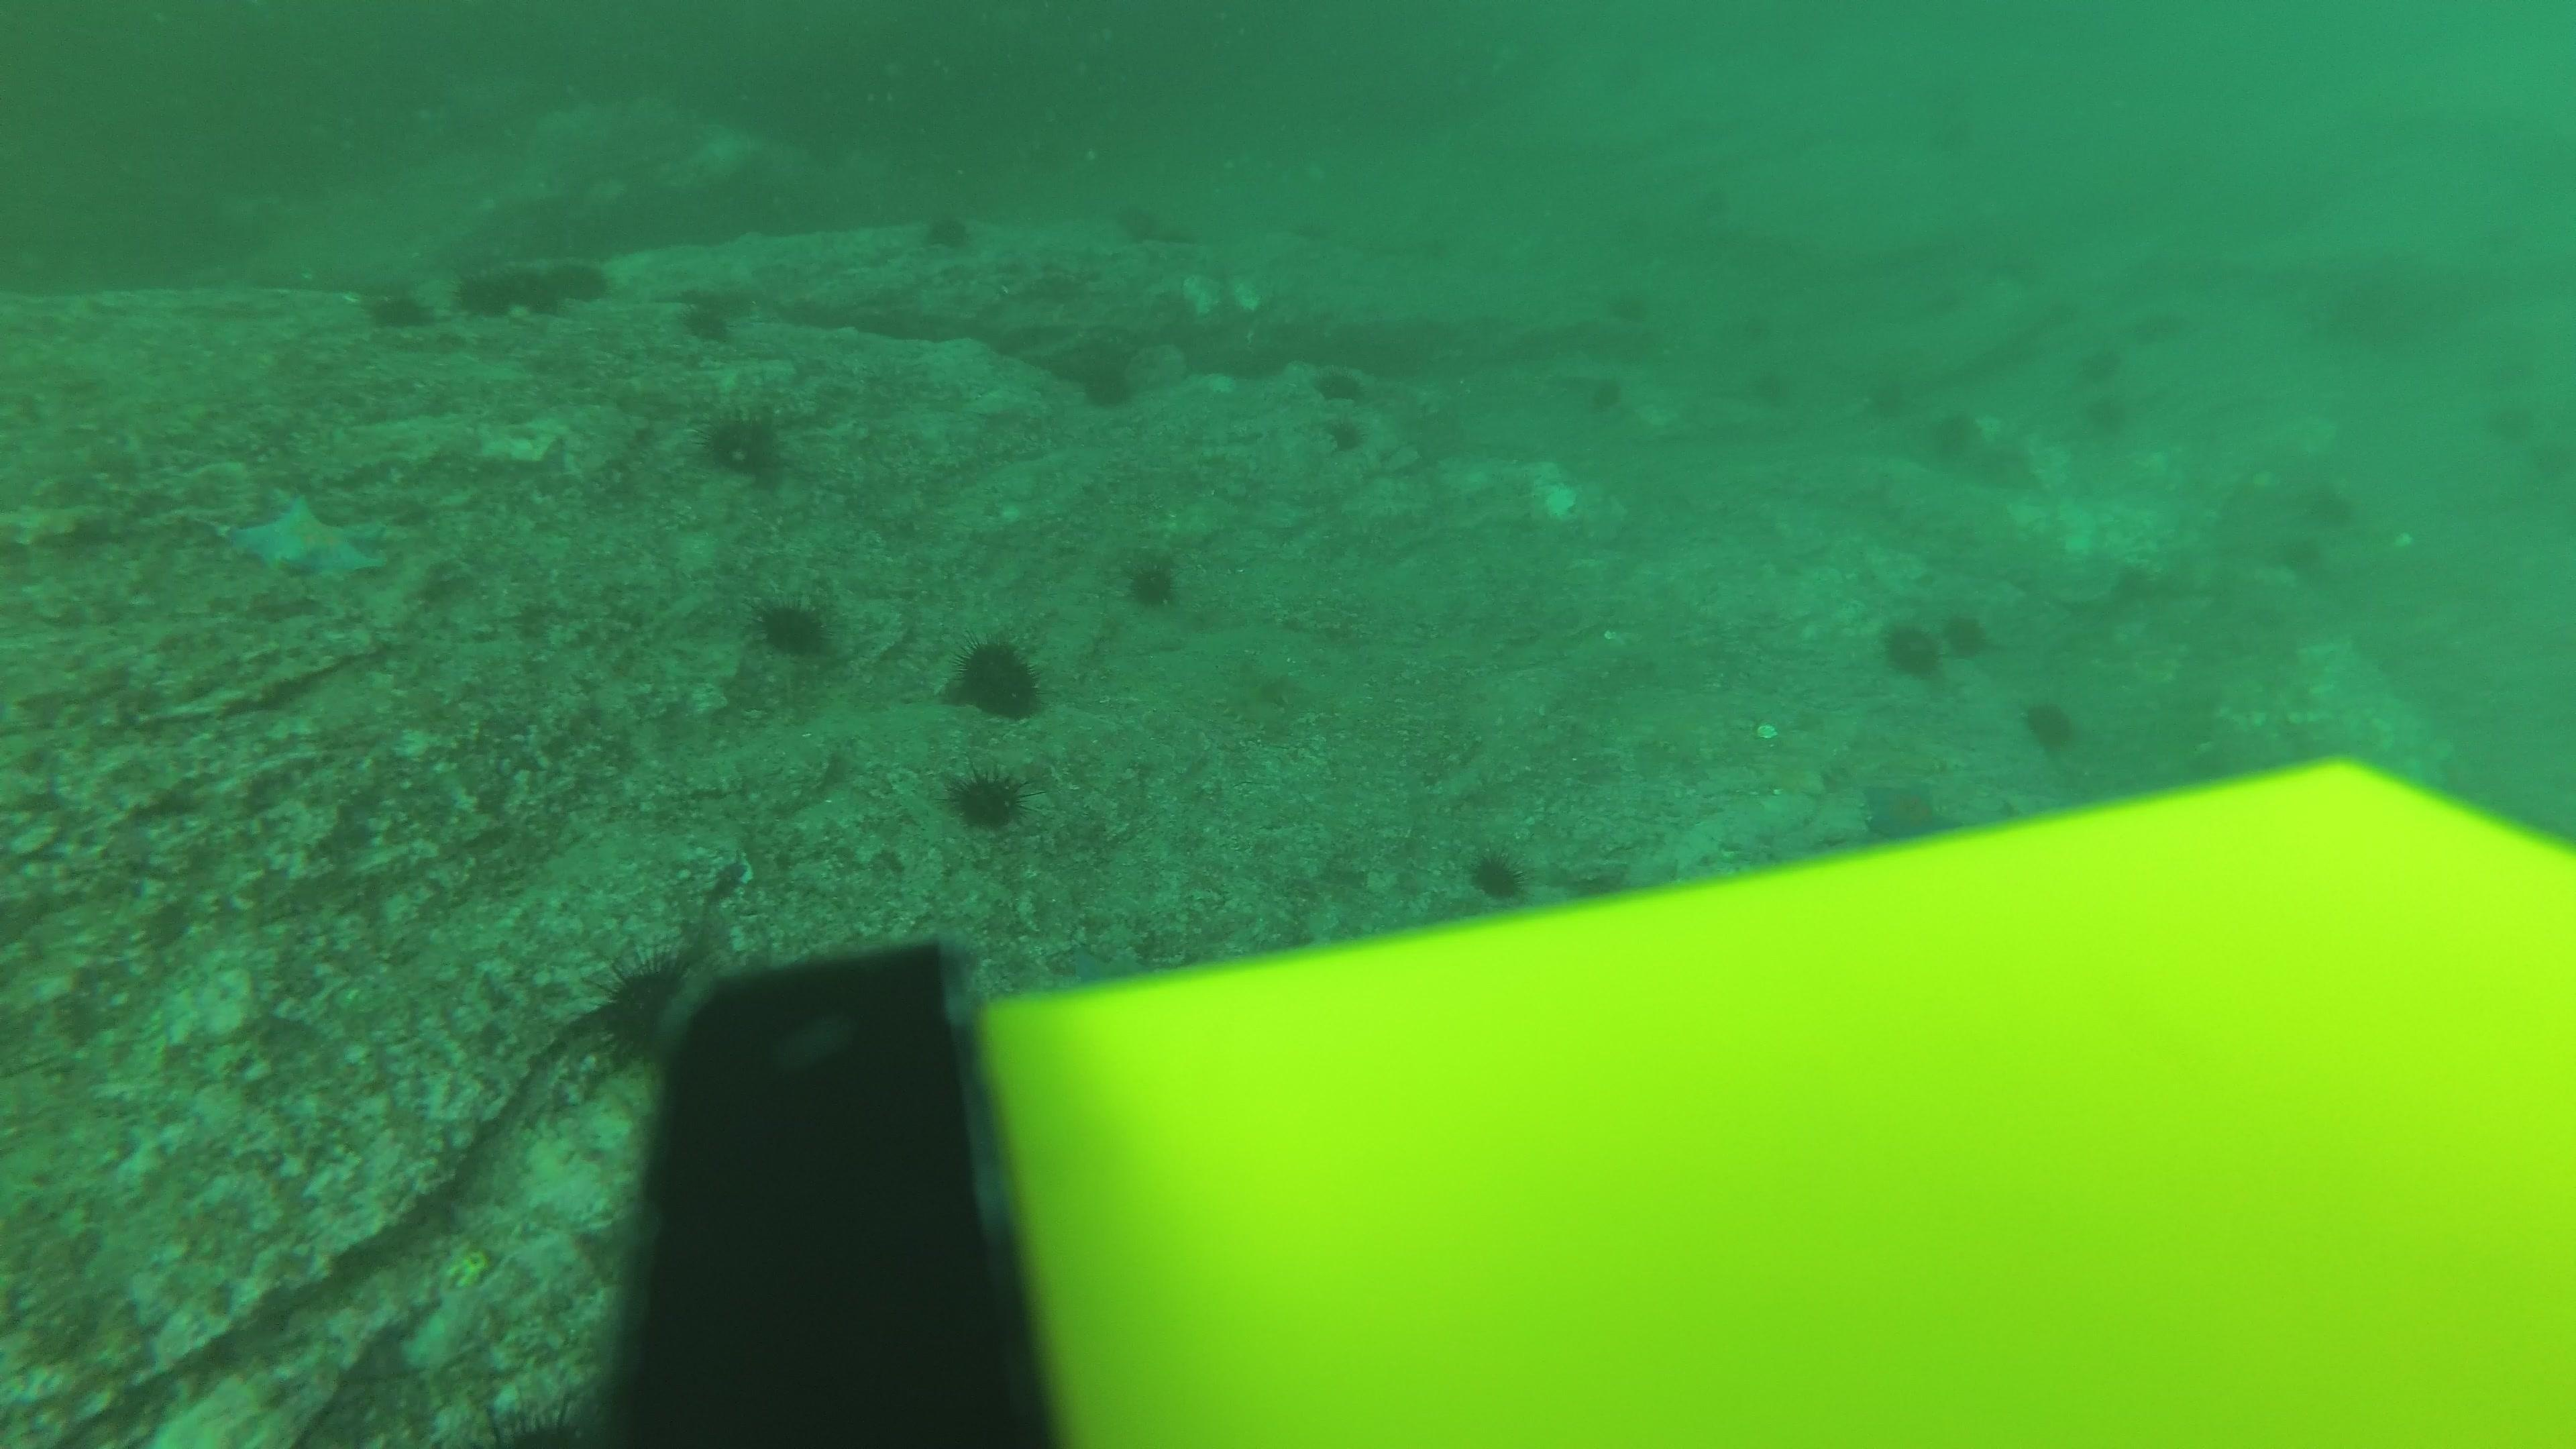echinus: (589, 950, 711, 1072), (945, 632, 1047, 722), (697, 402, 791, 483), (750, 589, 833, 660), (1879, 609, 1962, 679), (947, 763, 1028, 833), (1070, 341, 1145, 412), (487, 262, 568, 326), (554, 246, 635, 310), (449, 267, 522, 331), (1463, 842, 1532, 906), (674, 283, 745, 345), (361, 276, 433, 334), (1120, 548, 1185, 612), (1932, 605, 2001, 663), (2019, 694, 2081, 755), (1573, 366, 1633, 419), (1725, 303, 1785, 356), (1739, 363, 1799, 416), (1851, 372, 1911, 425), (1923, 409, 1983, 462), (2077, 391, 2137, 444), (2121, 308, 2181, 361), (2277, 527, 2337, 580), (2302, 485, 2362, 538), (1921, 76, 1982, 129), (1688, 166, 1748, 219), (1108, 200, 1168, 253), (1396, 216, 1456, 269), (1599, 285, 1658, 338), (2070, 345, 2128, 398), (1978, 235, 2036, 288), (2035, 283, 2093, 336), (1927, 115, 1985, 168), (1596, 42, 1654, 96), (1269, 205, 1327, 258), (1146, 219, 1205, 272), (916, 205, 978, 255), (1928, 267, 1987, 318), (1311, 363, 1371, 409), (1315, 410, 1369, 458)
starfish: (218, 488, 395, 584), (1856, 773, 1953, 844), (1046, 932, 1145, 985)
